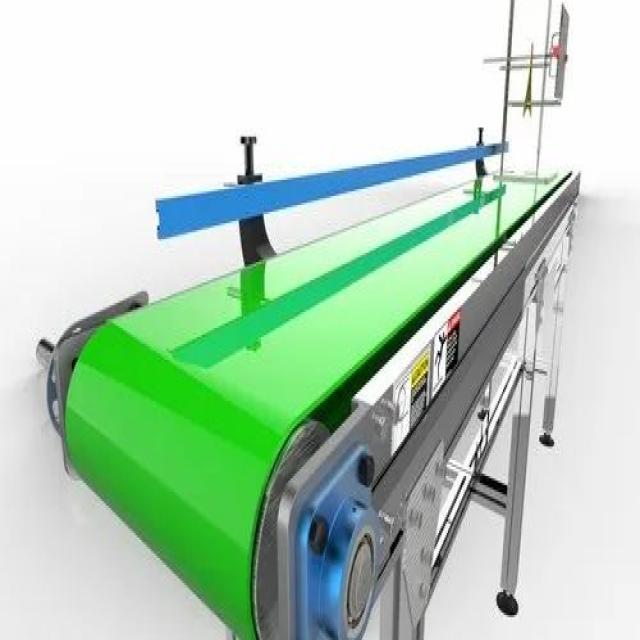conveyor: (38, 134, 588, 608)
